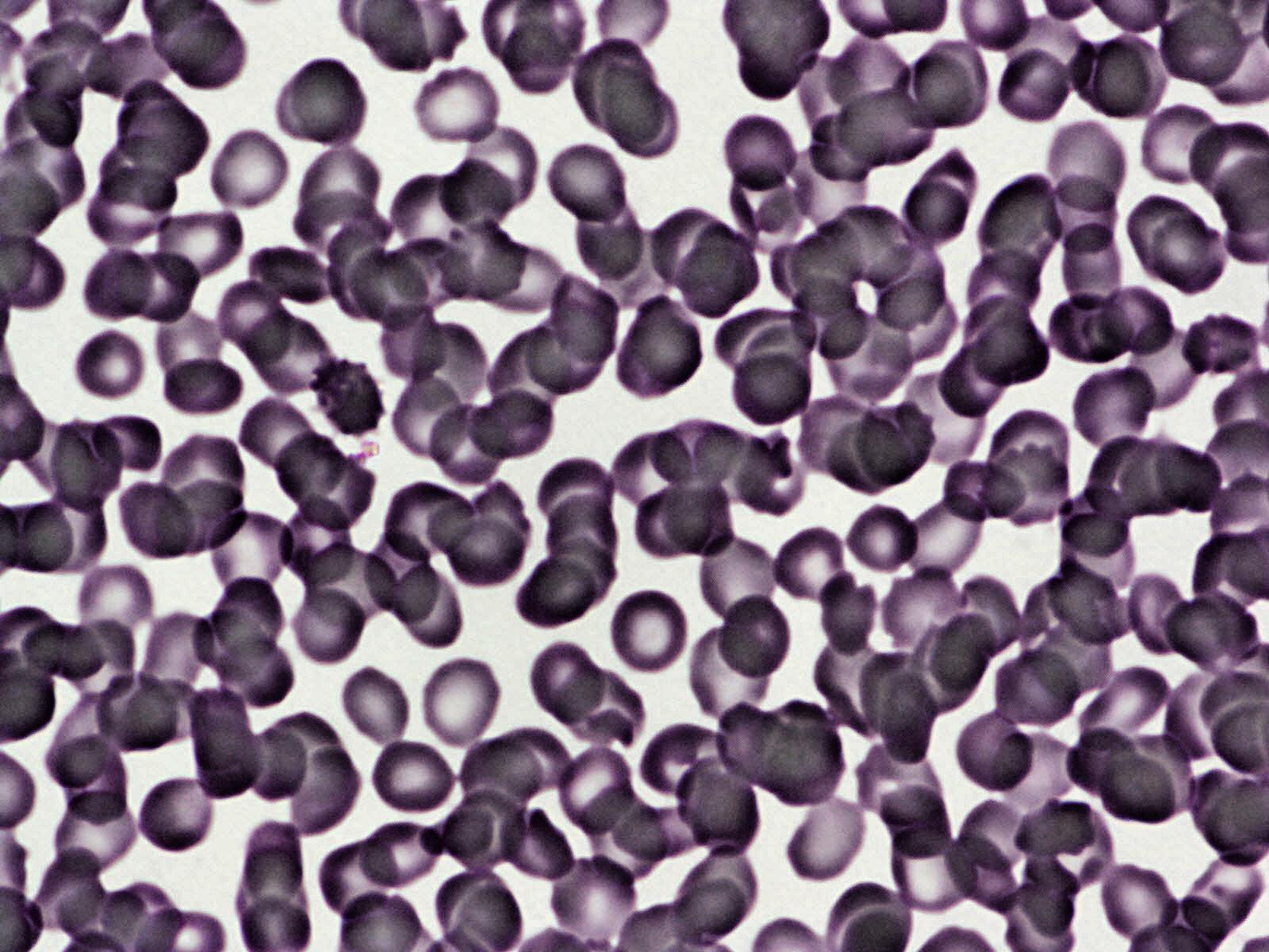Uninfected: (976, 172, 1067, 293), (568, 32, 664, 145), (820, 304, 923, 409), (615, 291, 704, 402), (273, 54, 366, 152), (1017, 800, 1115, 892), (148, 205, 246, 296), (582, 785, 669, 887), (765, 697, 848, 803), (674, 848, 768, 941), (1070, 32, 1168, 121), (49, 781, 137, 880), (898, 370, 988, 466), (687, 617, 769, 722), (671, 753, 756, 854), (548, 858, 641, 950), (1071, 361, 1161, 456), (782, 795, 876, 885), (417, 654, 502, 753), (1093, 861, 1187, 950), (290, 187, 395, 265), (486, 327, 571, 423), (83, 167, 179, 251), (20, 845, 109, 934), (1121, 324, 1211, 412), (424, 479, 531, 553), (544, 141, 631, 232), (888, 829, 983, 912), (1073, 668, 1169, 750), (1166, 593, 1263, 674), (895, 494, 982, 584), (44, 694, 124, 791), (22, 488, 111, 575), (697, 532, 781, 624), (244, 312, 337, 395), (204, 512, 297, 595), (305, 544, 395, 629), (1183, 848, 1267, 939), (836, 89, 939, 163), (680, 223, 761, 317), (988, 441, 1069, 535), (825, 200, 914, 285), (829, 31, 914, 120), (608, 588, 692, 678), (266, 711, 347, 804), (769, 241, 863, 321), (987, 409, 1074, 495), (955, 706, 1040, 794), (412, 64, 501, 148), (790, 145, 872, 236), (1003, 17, 1097, 96), (771, 522, 855, 610), (554, 666, 647, 745), (868, 241, 950, 330), (1048, 119, 1125, 213), (137, 609, 214, 703), (1139, 99, 1225, 183), (533, 535, 619, 619), (605, 63, 680, 159), (155, 478, 248, 555), (208, 129, 290, 216), (714, 702, 796, 789), (1125, 193, 1206, 281), (854, 746, 942, 827), (292, 448, 381, 528), (91, 671, 181, 750), (716, 306, 816, 377), (558, 748, 636, 839), (914, 36, 990, 129), (785, 220, 861, 313), (812, 639, 885, 735), (48, 420, 123, 513), (297, 143, 382, 225), (730, 169, 812, 254), (1114, 735, 1196, 820), (127, 103, 213, 184), (282, 584, 371, 662), (529, 305, 606, 395), (365, 528, 440, 620), (1032, 615, 1115, 698), (876, 281, 960, 363), (392, 175, 478, 255), (790, 275, 870, 361), (389, 374, 466, 463), (908, 149, 979, 245), (139, 772, 220, 856), (443, 793, 527, 874), (370, 736, 455, 816), (320, 835, 397, 923), (98, 138, 192, 210), (410, 323, 492, 405), (348, 250, 430, 332), (880, 566, 963, 647), (991, 649, 1077, 727), (1121, 571, 1197, 659), (460, 130, 543, 210), (649, 209, 729, 292), (1117, 435, 1196, 519), (1059, 515, 1137, 600), (289, 749, 361, 841), (826, 416, 912, 493), (21, 21, 107, 98), (120, 481, 197, 567), (309, 354, 385, 441), (1160, 9, 1247, 85), (385, 482, 473, 557), (721, 113, 800, 196), (381, 238, 473, 309), (242, 236, 335, 306), (338, 666, 415, 750), (991, 733, 1082, 804), (642, 722, 727, 798), (52, 736, 127, 822), (219, 279, 292, 367), (481, 241, 569, 314), (1079, 435, 1151, 524), (1050, 562, 1129, 643), (435, 403, 512, 486), (796, 397, 872, 481), (154, 301, 223, 393), (118, 80, 190, 167), (1041, 295, 1133, 363), (62, 618, 140, 698), (859, 399, 935, 481), (85, 33, 174, 103), (390, 566, 460, 655), (716, 597, 791, 680), (796, 54, 867, 141), (650, 419, 745, 484), (843, 498, 920, 578), (698, 428, 778, 505), (531, 643, 606, 725), (212, 575, 286, 658), (437, 156, 515, 234), (941, 334, 1010, 422), (739, 428, 807, 517), (282, 498, 352, 584), (580, 187, 644, 281), (879, 670, 941, 767), (631, 482, 707, 561), (968, 251, 1044, 330), (461, 738, 542, 812), (611, 432, 692, 506), (194, 609, 278, 680), (489, 729, 578, 796), (190, 685, 254, 778), (468, 390, 554, 459), (997, 49, 1077, 123), (239, 401, 320, 474), (167, 18, 250, 89), (352, 819, 444, 883), (439, 232, 524, 301), (29, 52, 90, 148), (161, 437, 247, 505), (500, 803, 573, 883), (746, 324, 814, 409), (216, 636, 293, 711), (660, 479, 734, 557), (78, 562, 159, 633), (515, 555, 596, 626), (197, 716, 265, 800), (857, 651, 925, 735), (498, 22, 573, 98), (895, 54, 970, 130), (547, 492, 620, 570), (732, 355, 812, 426), (446, 519, 527, 589), (974, 310, 1048, 386), (74, 328, 147, 405), (1045, 174, 1118, 251), (1095, 283, 1173, 355), (83, 247, 156, 323), (536, 456, 615, 526), (1155, 214, 1222, 296), (612, 804, 709, 860), (118, 252, 200, 317), (127, 677, 209, 742), (1066, 727, 1139, 800), (807, 116, 891, 179), (554, 276, 616, 361), (377, 303, 446, 379), (1064, 221, 1122, 310), (1180, 313, 1257, 380), (957, 575, 1019, 658), (930, 613, 994, 693), (883, 784, 950, 860), (952, 832, 1017, 910), (957, 801, 1026, 873), (1062, 482, 1128, 557), (1017, 856, 1077, 938), (162, 359, 242, 420), (245, 823, 301, 910), (270, 434, 346, 498), (245, 727, 309, 803), (819, 568, 877, 651), (24, 622, 107, 680), (901, 181, 970, 250), (1102, 756, 1171, 825), (1156, 443, 1222, 515), (943, 463, 1026, 520), (3, 89, 78, 151), (89, 412, 162, 474)
